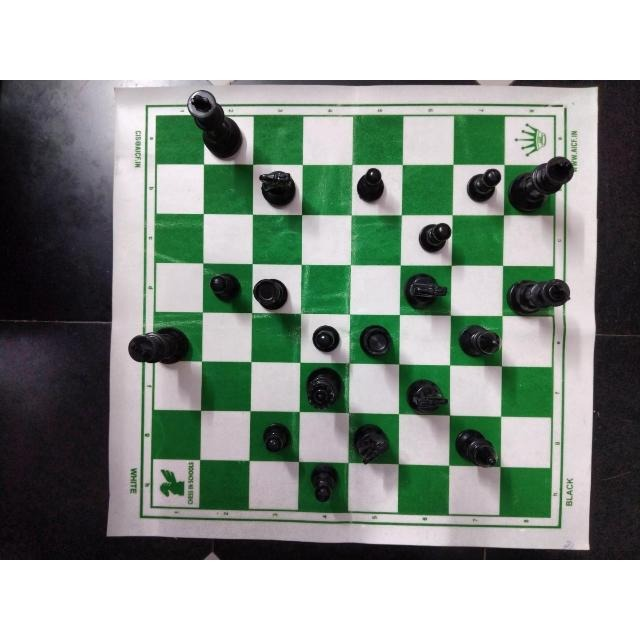black-bishop: (452, 429, 502, 471), (458, 322, 503, 360)
black-king: (187, 88, 245, 161), (506, 156, 573, 216), (505, 276, 573, 320), (126, 323, 192, 367)
black-knight: (403, 375, 450, 418), (350, 422, 392, 468), (405, 271, 449, 312), (257, 170, 299, 209)
black-pawn: (464, 166, 502, 206), (309, 462, 342, 508), (354, 165, 390, 205), (414, 221, 451, 257), (260, 421, 296, 457), (309, 324, 344, 356), (209, 273, 243, 301)
black-queen: (306, 364, 345, 412)
black-rook: (252, 274, 290, 313), (360, 323, 394, 359)
